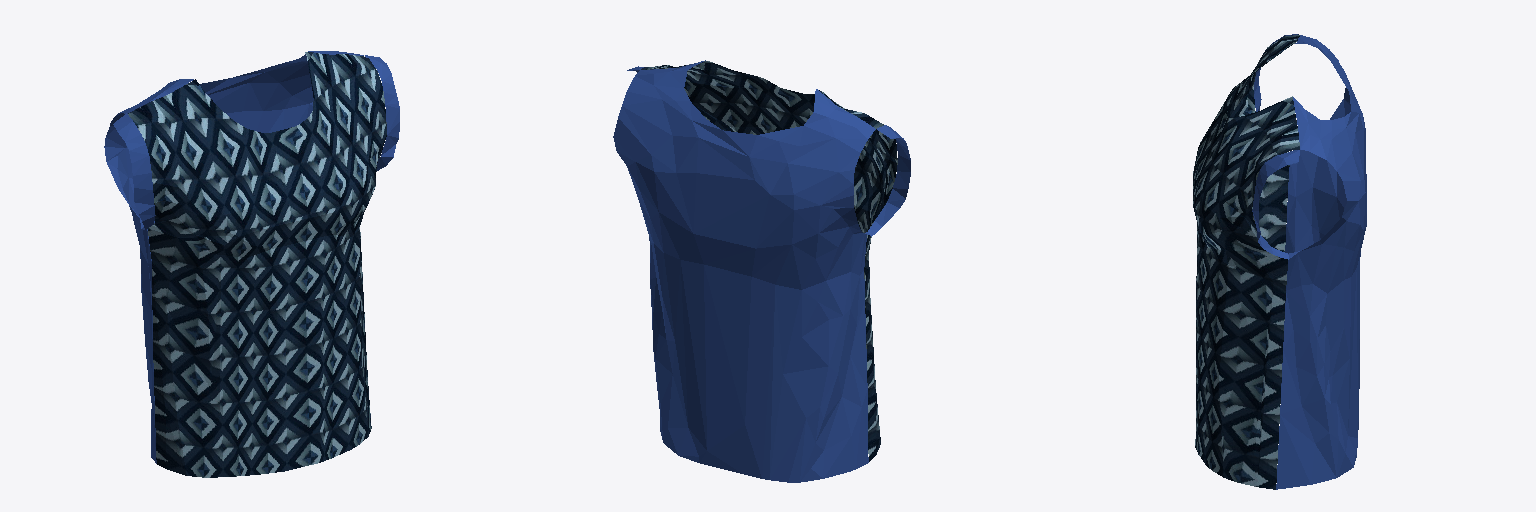
3 renders of one model, left to right at view 1: azimuth 30°, elevation 25°; view 2: azimuth 150°, elevation 25°; view 3: azimuth 270°, elevation 25°, orthographic.
Visible parts, largest first — view 1: T_shirt; view 2: T_shirt; view 3: T_shirt.
Boxes of the visible parts, x1,y1,x2,y2 form: T_shirt: [104, 51, 399, 477]; T_shirt: [613, 60, 910, 482]; T_shirt: [1193, 34, 1366, 489].
Size of the model in its own units: 0.2935 by 0.3892 by 0.1639.
Materials: 2 (1 with a texture image).